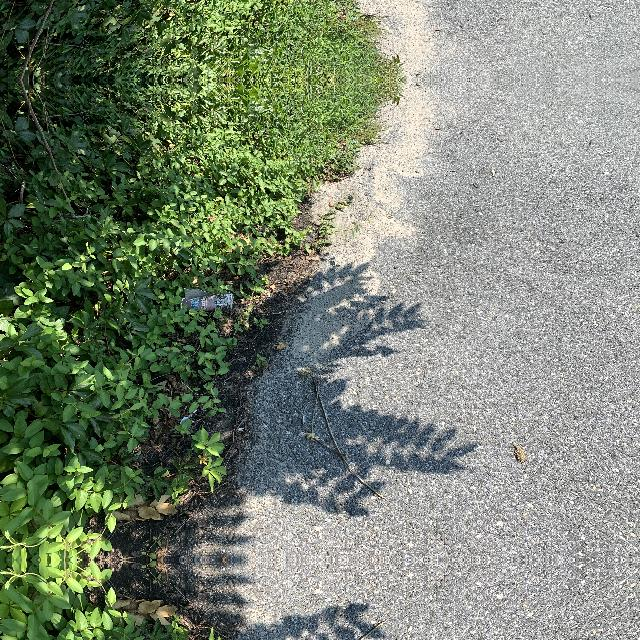Coffee Cup: (176, 290, 238, 314)
